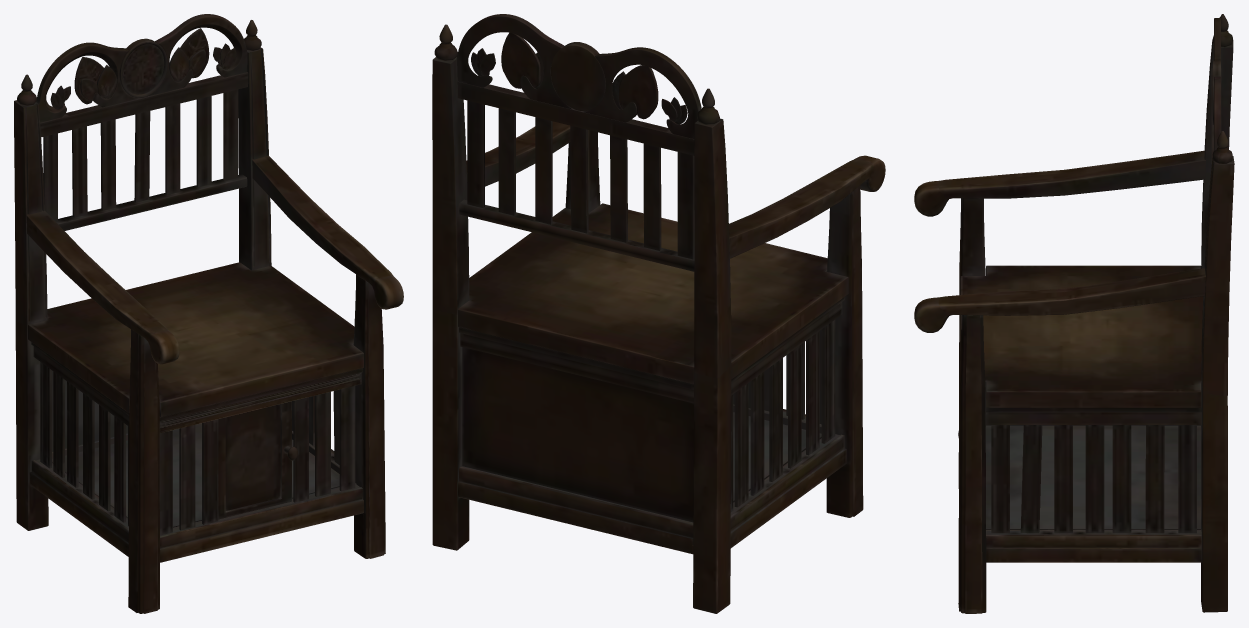
Rendered from ph-gallinera_chair.glb.
3 views of the same model, side by side, from view 1: azimuth 30°, elevation 25°; view 2: azimuth 150°, elevation 25°; view 3: azimuth 270°, elevation 25° (orthographic). The views are drawn at different scales.
Parts seen in each view (by area): view 1: gallinera_chair; view 2: gallinera_chair; view 3: gallinera_chair.
Part boxes in pixels (<box>): gallinera_chair: <box>14,14,403,613</box>; gallinera_chair: <box>432,14,885,613</box>; gallinera_chair: <box>914,14,1234,613</box>.
Bounding box in the file's own units: 0.5619 × 1 × 0.5842.
Materials: 1 (1 with a texture image).
